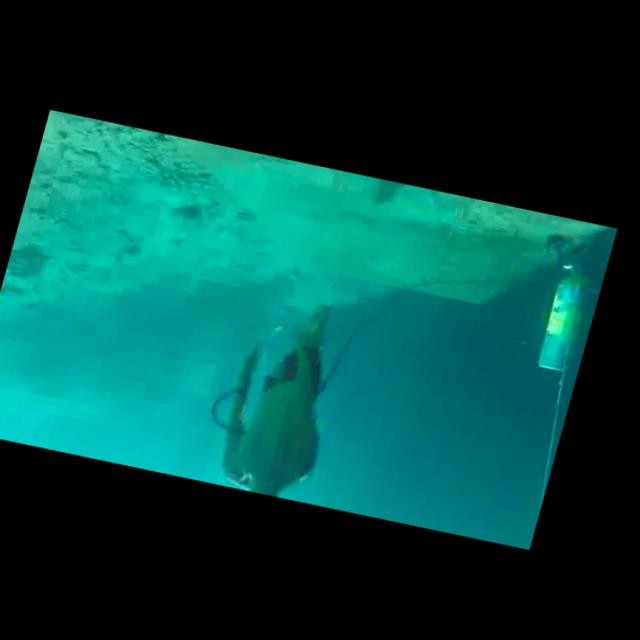human: (212, 278, 370, 502)
